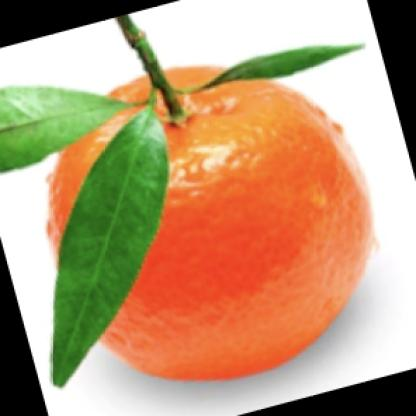fresh: (50, 67, 372, 380)
